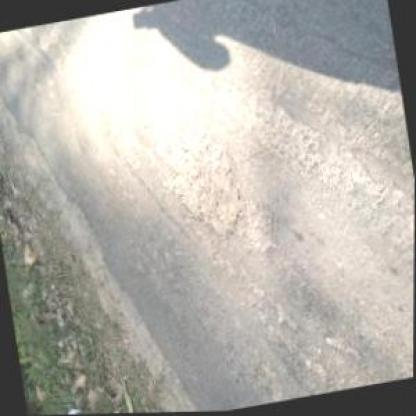pothole: (156, 120, 250, 252), (241, 193, 283, 254)
